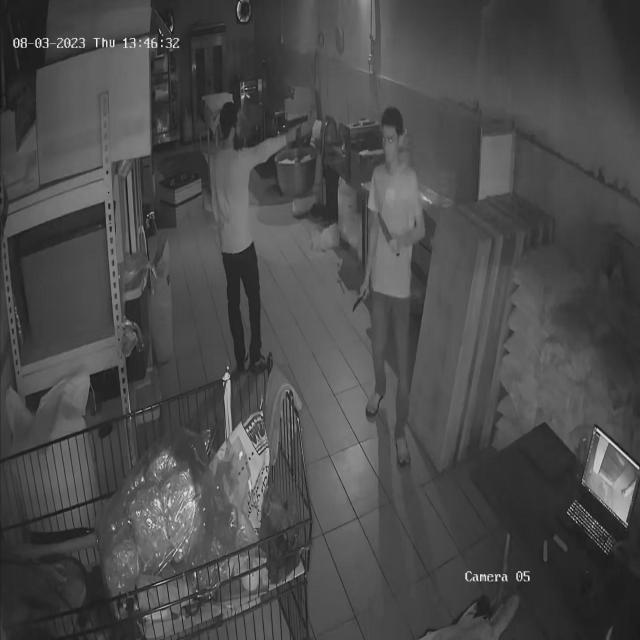Gun: (274, 105, 320, 152)
Knife: (374, 207, 408, 259), (342, 284, 371, 316)
